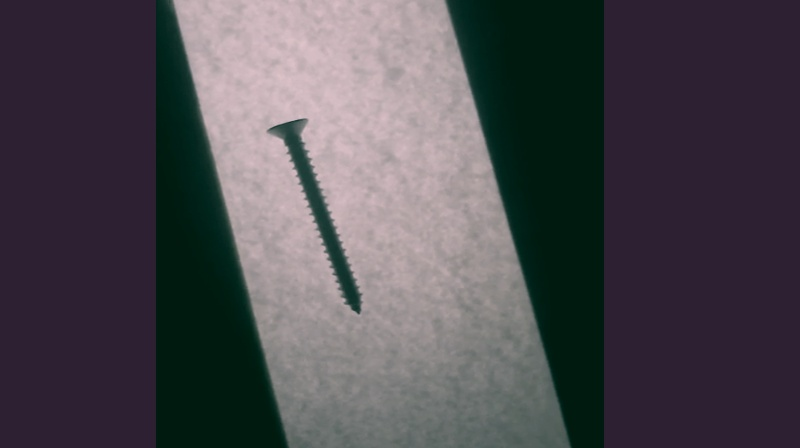S002: (264, 115, 364, 317)
